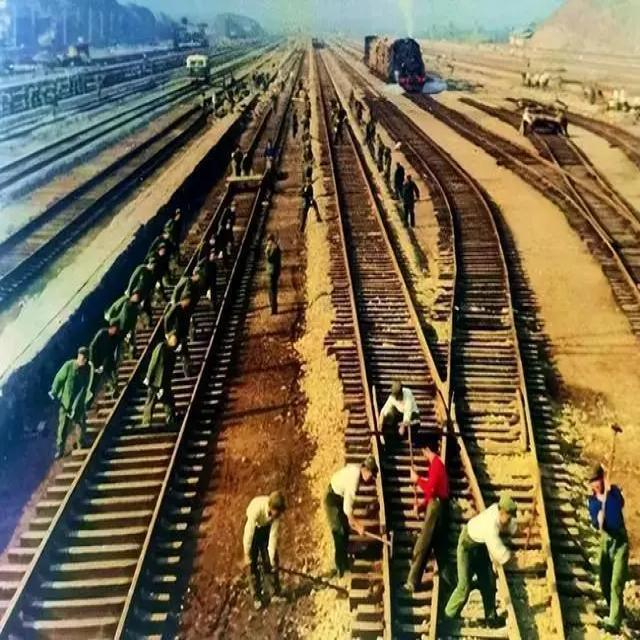people: (442, 488, 525, 632), (582, 460, 638, 634), (316, 445, 381, 580), (233, 487, 296, 616), (410, 440, 457, 586), (52, 345, 104, 452), (144, 333, 186, 428), (373, 378, 430, 441), (106, 286, 144, 360), (161, 263, 192, 353), (259, 233, 289, 314), (91, 319, 119, 399), (137, 240, 170, 307), (126, 258, 157, 325), (186, 242, 215, 309), (292, 180, 328, 232), (157, 207, 186, 268), (172, 269, 202, 324), (202, 225, 233, 274), (152, 224, 174, 286), (399, 174, 420, 228), (363, 122, 385, 161), (371, 131, 391, 172), (296, 161, 316, 196), (391, 160, 409, 195), (381, 144, 396, 183), (295, 141, 314, 170), (298, 125, 313, 161), (302, 116, 314, 147)
